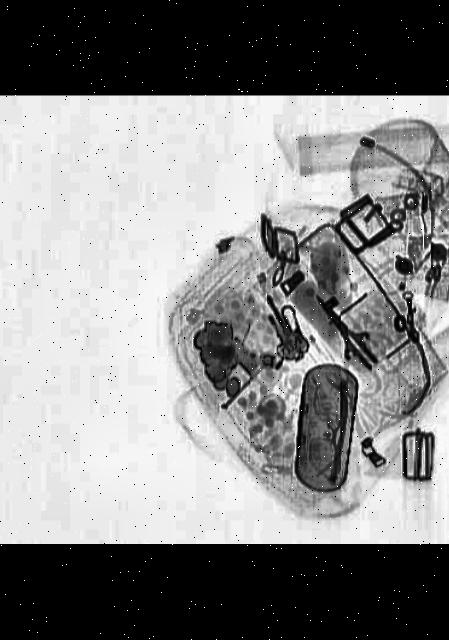Knife: (302, 290, 386, 374)
